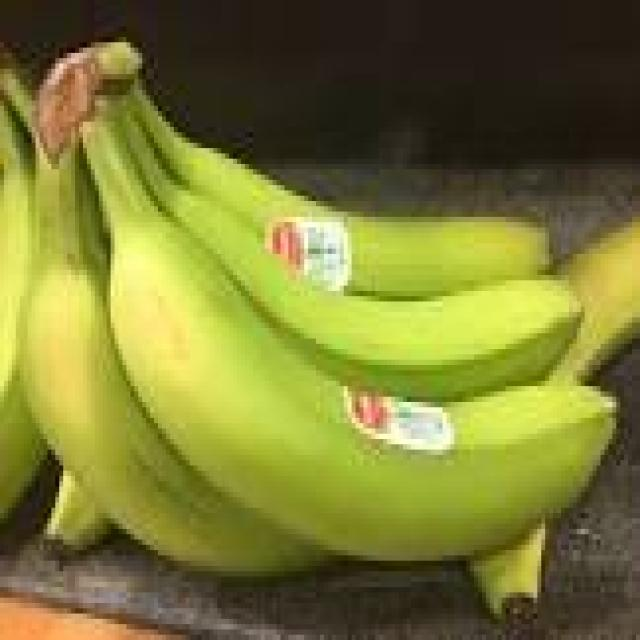banana: (83, 106, 612, 560), (123, 112, 580, 401), (20, 149, 323, 576), (135, 85, 549, 296), (0, 69, 47, 518), (554, 217, 639, 380), (471, 524, 545, 618), (44, 471, 110, 555)
